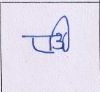i_matra: (59, 15, 73, 51)
